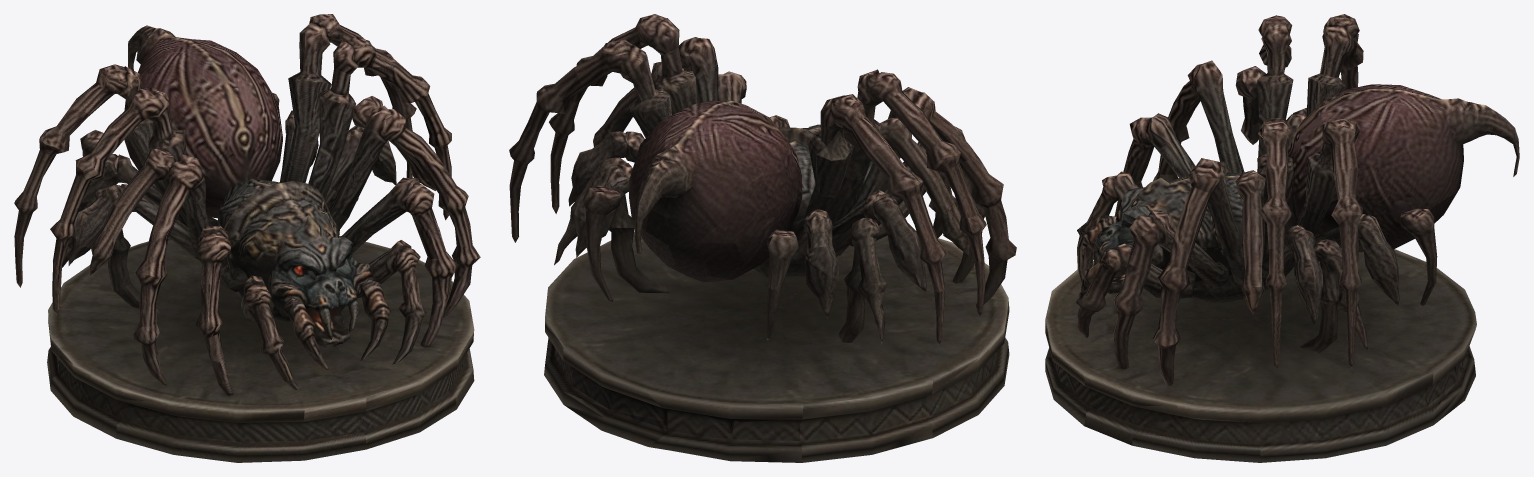
File: shelob.glb
3 views of the same model, side by side, from view 1: azimuth 30°, elevation 25°; view 2: azimuth 150°, elevation 25°; view 3: azimuth 270°, elevation 25° (orthographic). The views are drawn at different scales.
Visible parts, largest first — view 1: mesh_node; view 2: mesh_node; view 3: mesh_node.
Part boxes in pixels (bbox=[...]): mesh_node: bbox=[14, 14, 480, 462]; mesh_node: bbox=[509, 14, 1016, 462]; mesh_node: bbox=[1045, 14, 1519, 462].
Size of the model in its own units: 0.9805 by 0.707 by 1.
Materials: 1 (1 with a texture image).
